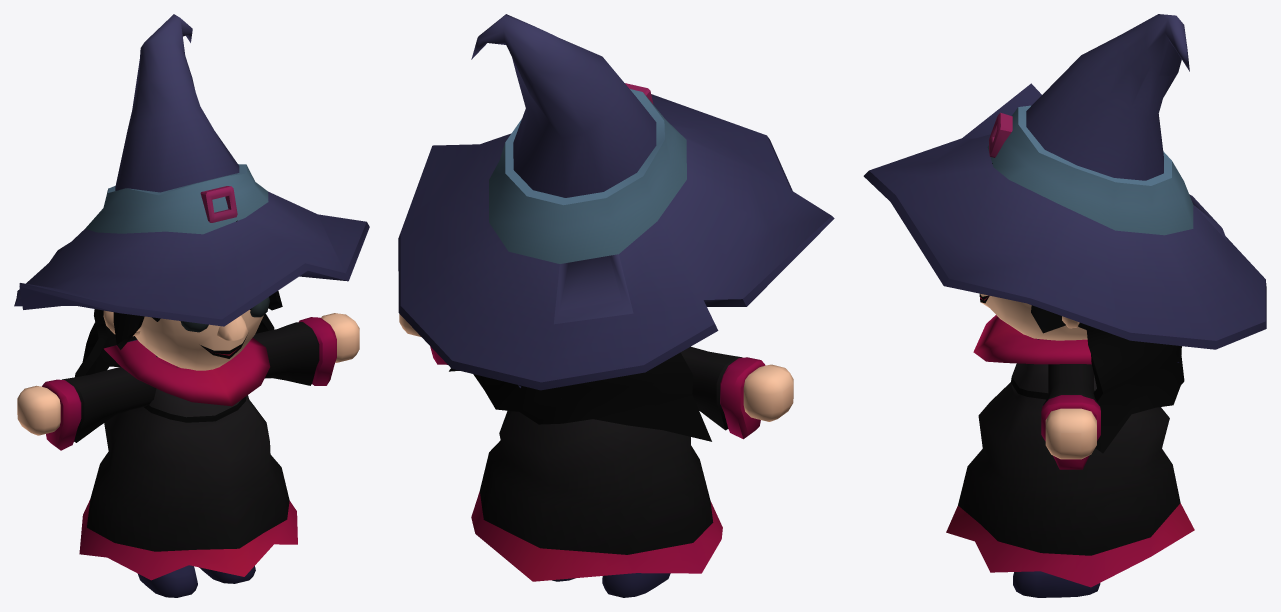
The model's file is Witch.glb.
3 views of the same model, side by side, from view 1: azimuth 30°, elevation 25°; view 2: azimuth 150°, elevation 25°; view 3: azimuth 270°, elevation 25° (orthographic). The views are drawn at different scales.
Parts seen in each view (by area): view 1: Mage_Hat, Cloak.001, Mage_ArmLeft.007, Mage_Head.009, Hair.001, Mage_LegRight.007; view 2: Mage_Hat, Cloak.001, Hair.001, Mage_ArmLeft.007, Mage_LegRight.007; view 3: Mage_Hat, Cloak.001, Hair.001, Mage_ArmLeft.007, Mage_Head.009, Mage_LegLeft.007.
Boxes of the visible parts, bbox=[...] form: Mage_Hat: bbox=[14, 14, 369, 326]; Cloak.001: bbox=[79, 337, 297, 580]; Mage_ArmLeft.007: bbox=[17, 313, 359, 450]; Mage_Head.009: bbox=[103, 297, 269, 370]; Hair.001: bbox=[75, 220, 282, 377]; Mage_LegRight.007: bbox=[138, 565, 197, 597]; Mage_Hat: bbox=[398, 14, 834, 390]; Cloak.001: bbox=[471, 385, 722, 581]; Hair.001: bbox=[449, 352, 711, 441]; Mage_ArmLeft.007: bbox=[399, 314, 793, 439]; Mage_LegRight.007: bbox=[602, 573, 670, 597]; Mage_Hat: bbox=[863, 14, 1266, 349]; Cloak.001: bbox=[946, 315, 1194, 587]; Hair.001: bbox=[992, 163, 1184, 453]; Mage_ArmLeft.007: bbox=[1041, 364, 1100, 469]; Mage_Head.009: bbox=[979, 293, 1087, 340]; Mage_LegLeft.007: bbox=[1013, 571, 1100, 597].
Size of the model in its own units: 2.07 by 2.87 by 1.83.
Materials: 4 (4 with a texture image).
